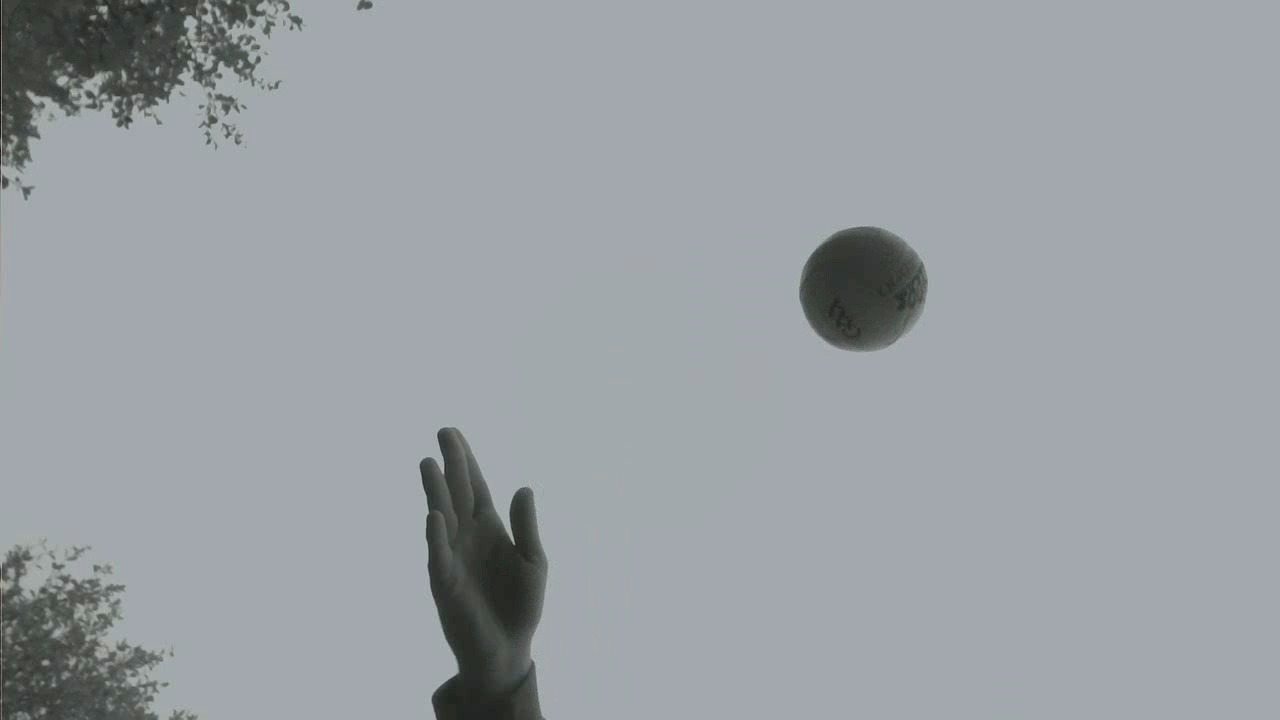Football-Spotter: (800, 227, 927, 350)
